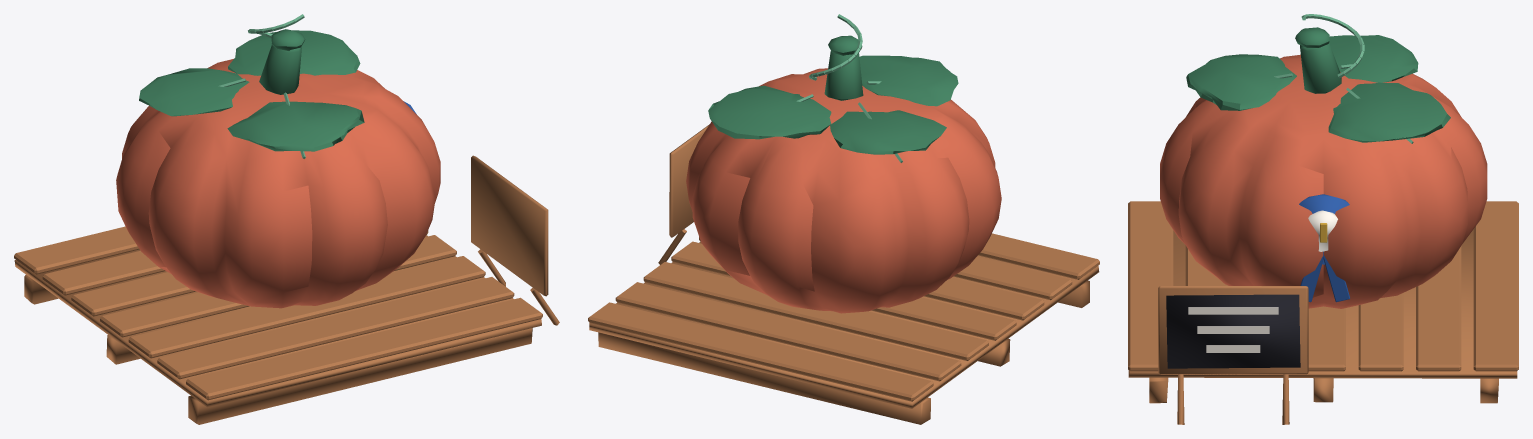
Rendered from prize_pumpkin.glb.
The picture shows the model from 3 angles, left to right: view 1: azimuth 30°, elevation 25°; view 2: azimuth 150°, elevation 25°; view 3: azimuth 270°, elevation 25°; orthographic projection. The views are drawn at different scales.
Parts seen in each view (by area): view 1: prize_pumpkin; view 2: prize_pumpkin; view 3: prize_pumpkin.
Boxes of the visible parts, x1,y1,x2,y2 form: prize_pumpkin: (14,14,559,424); prize_pumpkin: (588,14,1099,424); prize_pumpkin: (1128,14,1518,424).
Size of the model in its own units: 2.92 by 2.3 by 2.6.
1 material, 1 textured.
